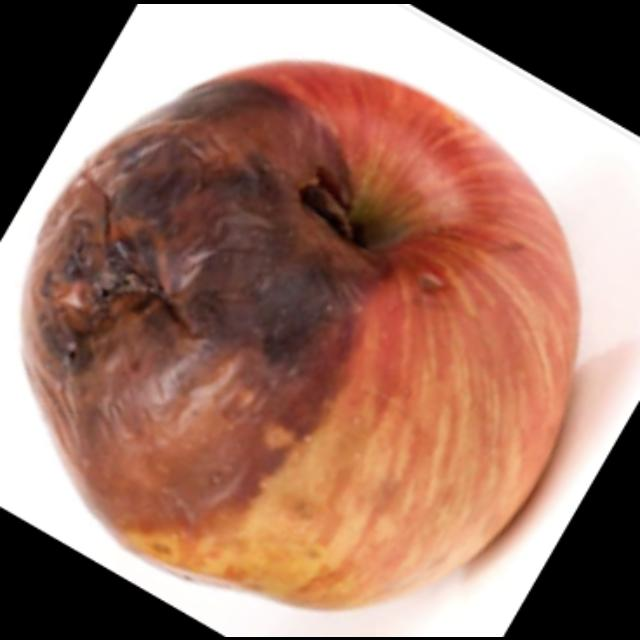Apel Tidak Segar: (12, 51, 588, 619)
